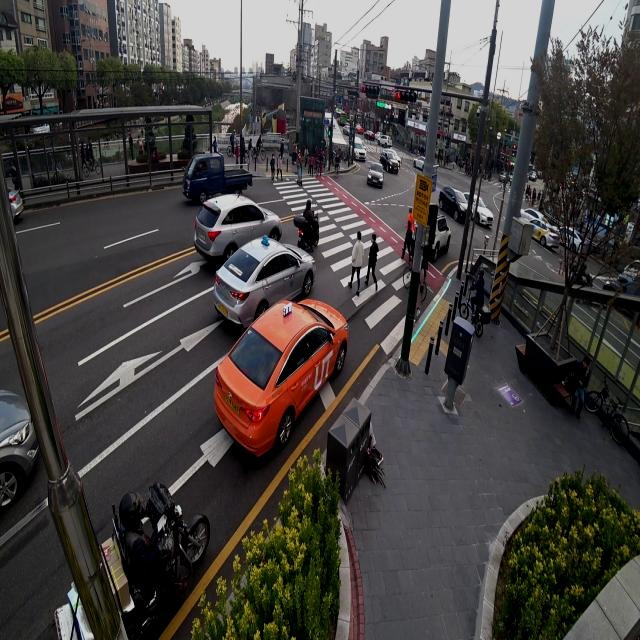Car: (207, 295, 360, 446), (0, 341, 45, 528), (213, 238, 319, 305), (190, 196, 287, 247), (516, 204, 556, 251), (462, 188, 496, 234), (0, 172, 24, 230), (440, 180, 467, 223), (429, 213, 453, 256), (366, 158, 384, 195), (351, 138, 367, 167), (382, 146, 396, 174), (412, 152, 428, 171), (390, 143, 401, 164)
Motorcycle: (54, 479, 210, 638), (287, 187, 322, 250)
Truck: (178, 156, 257, 202)
